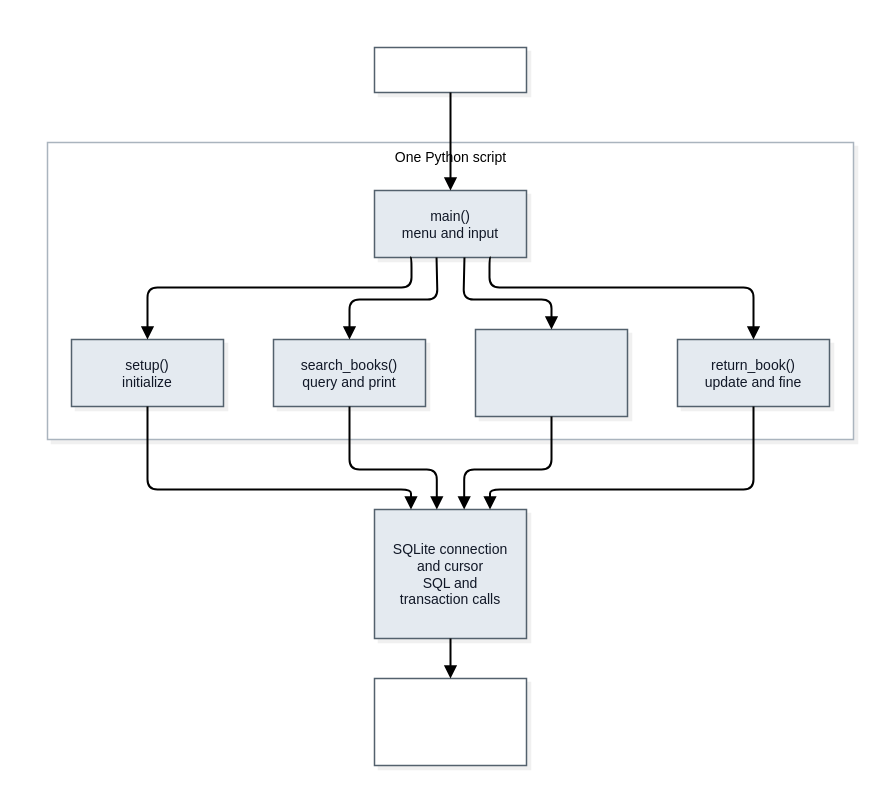
This 875x787 diagram has some shape labels left out. Here are the shapes that lost their labels. From the top down, the centre of each, then its label:
At [452,71]: "Console user".
At [553,374]: "borrow() checks and updates".
At [452,723]: "library.db members | books | loans".
